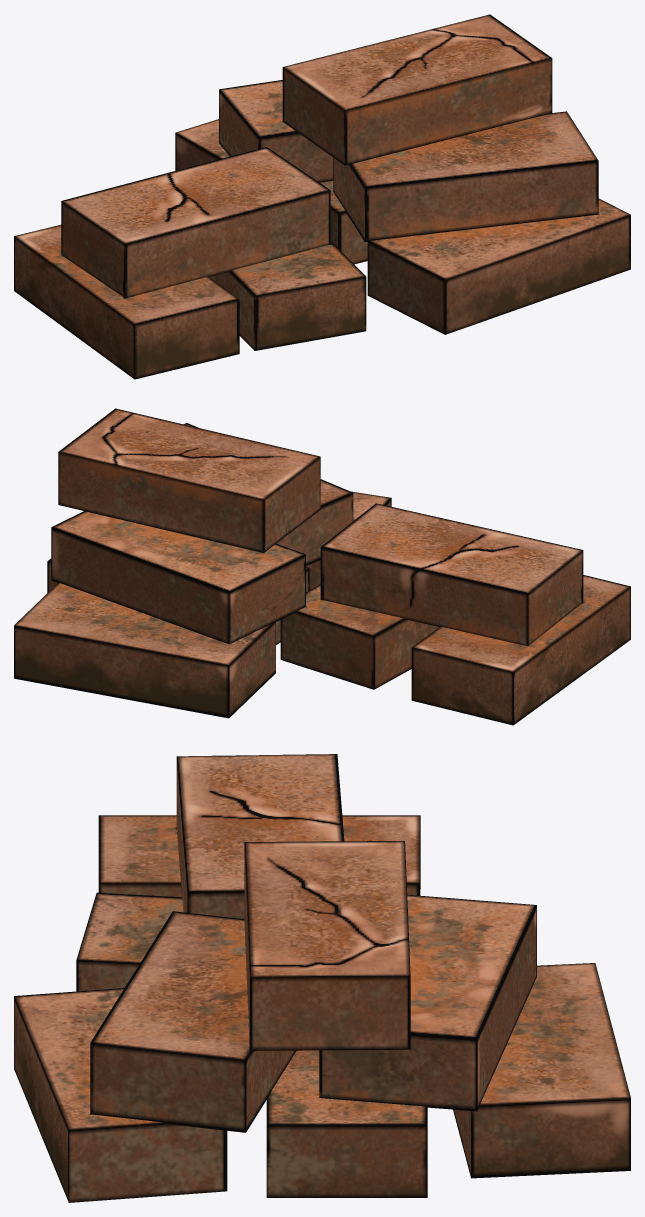
Rendered from SM_Tilepile_Med.fbx.
3 renders of one model, top to bottom at view 1: azimuth 30°, elevation 25°; view 2: azimuth 150°, elevation 25°; view 3: azimuth 270°, elevation 25°, orthographic. The views are drawn at different scales.
Parts seen in each view (by area): view 1: SM_Tilepile_Med; view 2: SM_Tilepile_Med; view 3: SM_Tilepile_Med.
Boxes of the visible parts, left/top/right/bottom form: SM_Tilepile_Med: left=14, top=14, right=630, bottom=379; SM_Tilepile_Med: left=14, top=408, right=630, bottom=725; SM_Tilepile_Med: left=14, top=754, right=630, bottom=1202.
Bounding box in the file's own units: 51.19 × 16.46 × 42.2.
